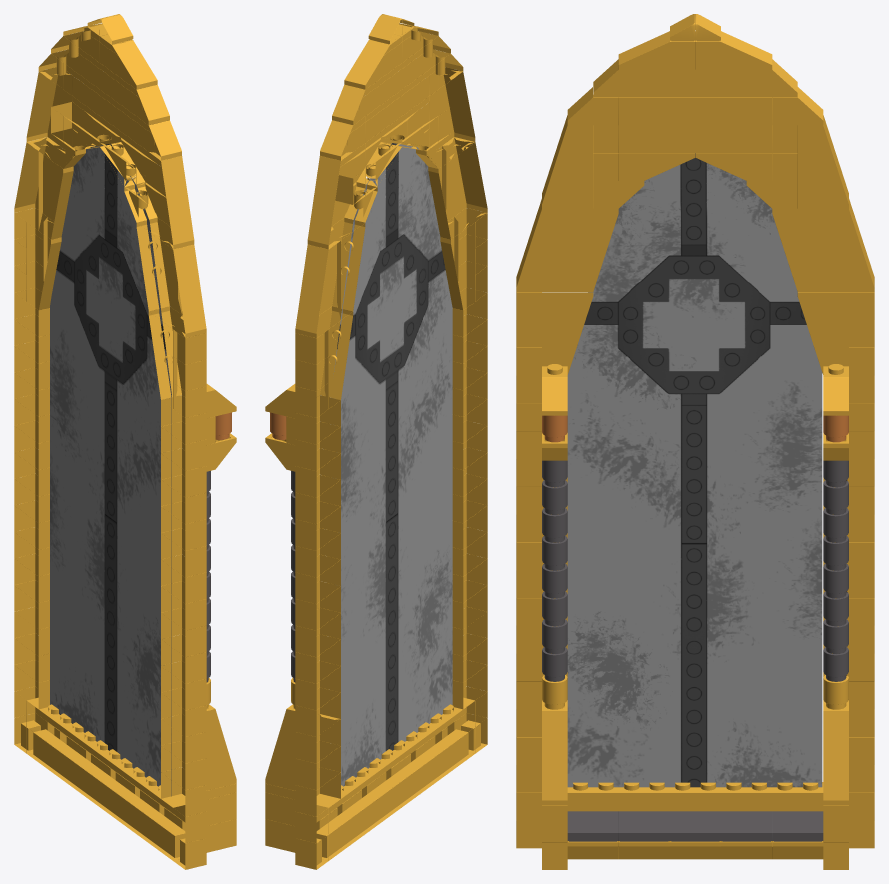
Rendered from LegoGothicCathedralWindow.fbx.
The picture shows the model from 3 angles, left to right: view 1: azimuth 30°, elevation 25°; view 2: azimuth 150°, elevation 25°; view 3: azimuth 270°, elevation 25°; orthographic projection. The views are drawn at different scales.
Visible parts, largest first — view 1: 00001_2449.dat, Plane; view 2: 00001_2449.dat, Plane; view 3: Plane, 00001_2449.dat.
Part boxes in pixels (box(x1,y1,x2,y2)): 00001_2449.dat: box(14, 14, 236, 869); Plane: box(50, 143, 171, 796); 00001_2449.dat: box(265, 14, 487, 869); Plane: box(333, 143, 452, 786); Plane: box(567, 153, 822, 787); 00001_2449.dat: box(516, 14, 874, 869).
Size of the model in its own units: 0.6001 by 7.12 by 2.8.
